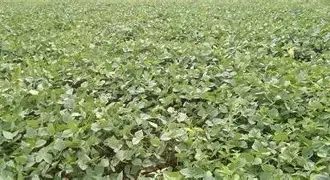crops: (0, 0, 326, 178), (7, 0, 107, 21), (113, 0, 205, 20)
